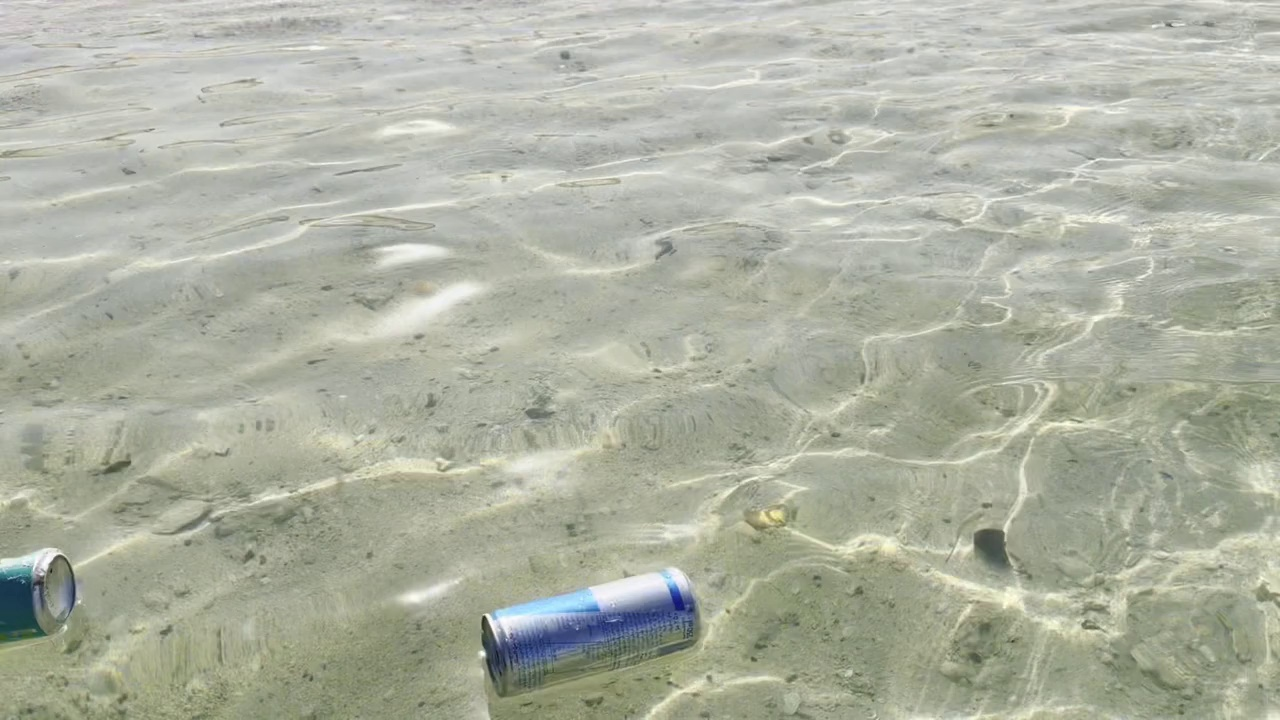debris: (464, 559, 707, 711), (0, 542, 94, 666)
